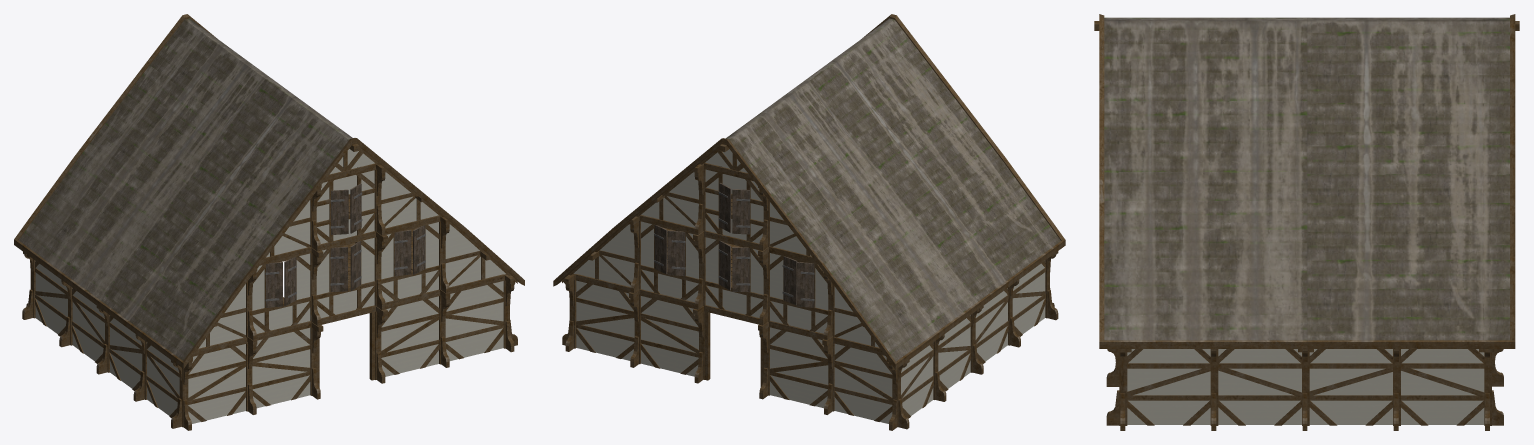
Rendered from wooden_storehouse.obj.
3 views of the same model, side by side, from view 1: azimuth 30°, elevation 25°; view 2: azimuth 150°, elevation 25°; view 3: azimuth 270°, elevation 25° (orthographic). The views are drawn at different scales.
Visible parts, largest first — view 1: wooden_storehouse; view 2: wooden_storehouse; view 3: wooden_storehouse.
Boxes of the visible parts, left/top/right/bottom form: wooden_storehouse: left=14, top=14, right=524, bottom=430; wooden_storehouse: left=553, top=14, right=1065, bottom=430; wooden_storehouse: left=1094, top=14, right=1519, bottom=430.
Bounding box in the file's own units: 10.7 × 7.56 × 9.33.
1 material, 1 textured.
